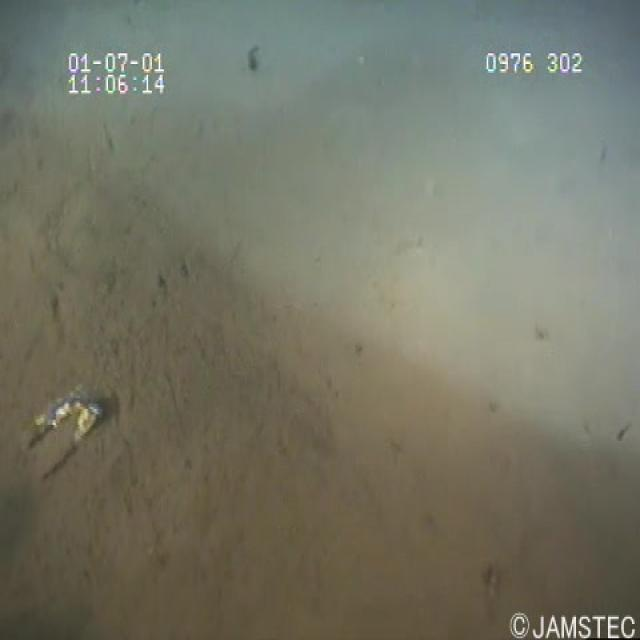plastic: (12, 366, 112, 500)
